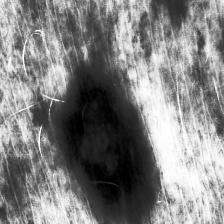Benign Marking or Mole: (56, 67, 156, 224)
